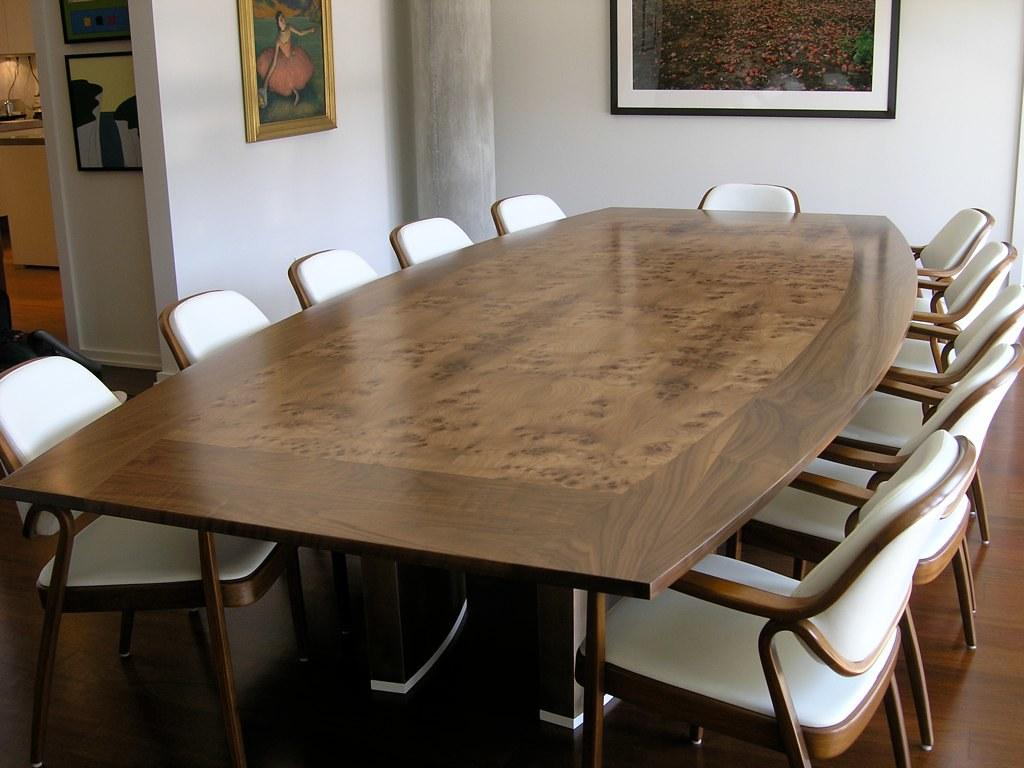table: (1, 205, 919, 766)
